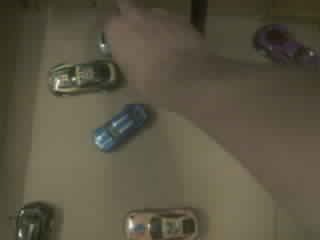Car: (95, 104, 148, 151), (49, 60, 118, 95), (125, 209, 198, 239), (257, 25, 304, 53), (17, 202, 52, 239)
